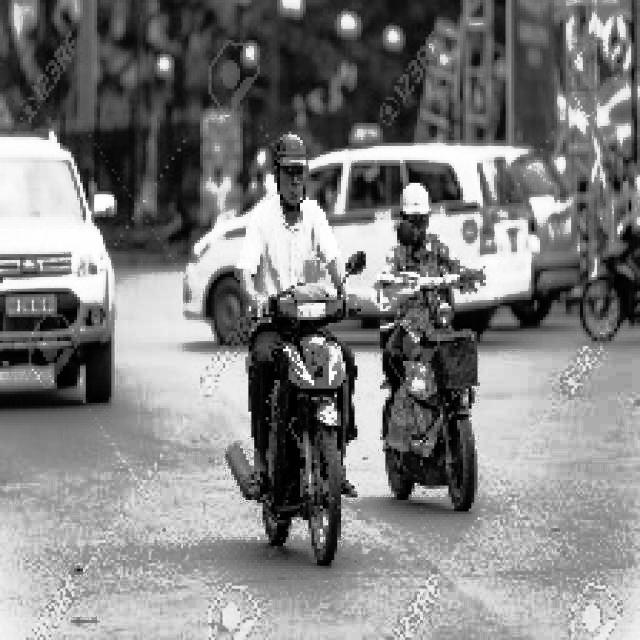Bike: (241, 282, 364, 566), (380, 289, 484, 533)
